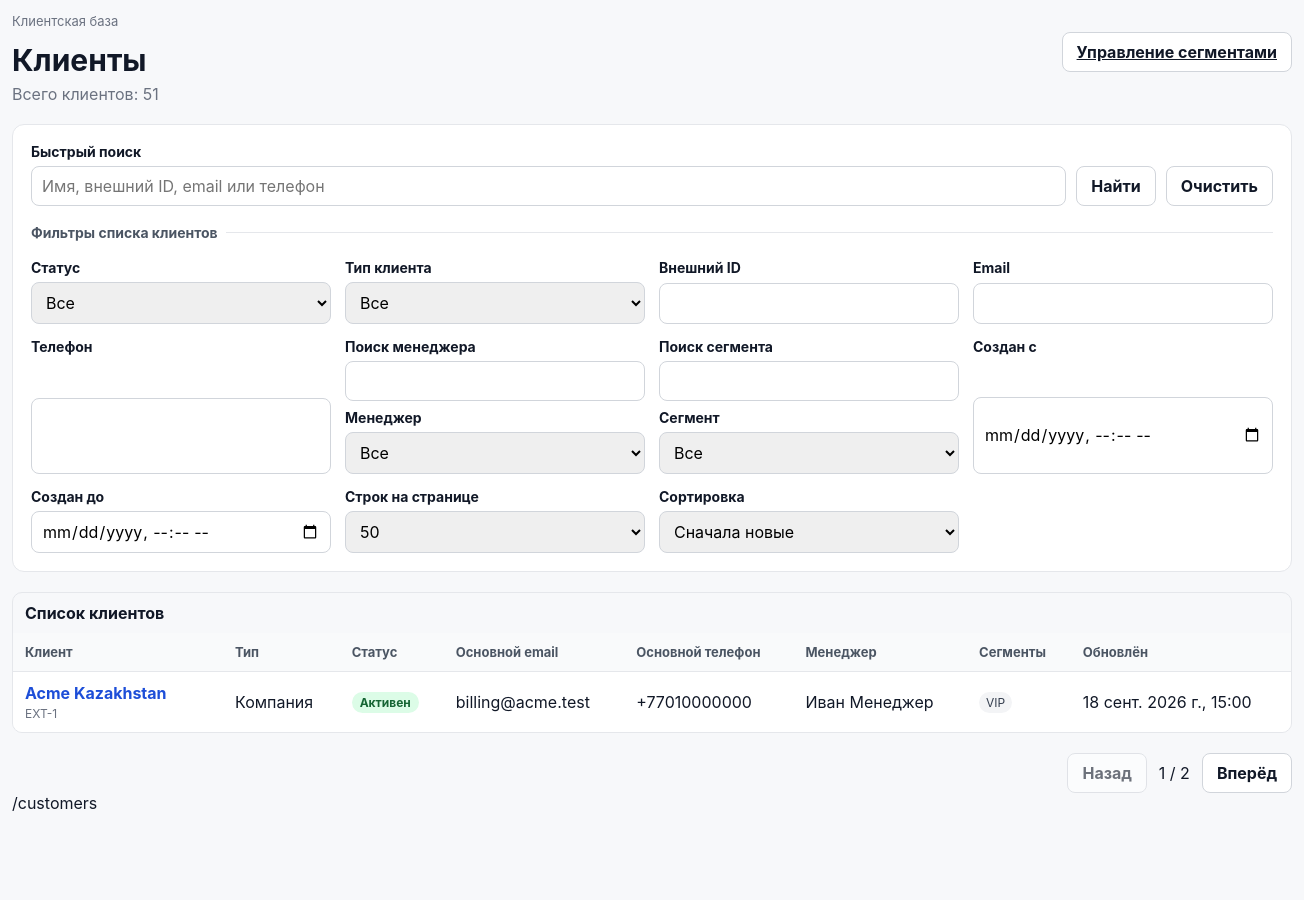
it: CustomersPage › debounces quick search into one committed URL state
Expected: the link "Acme Kazakhstan" is shown, x1=25 y1=683 x2=167 y2=703
Type "Acme" into the search field labelled "Быстрый поиск" at (549, 186), box x1=31 y1=166 x2=1066 y2=206
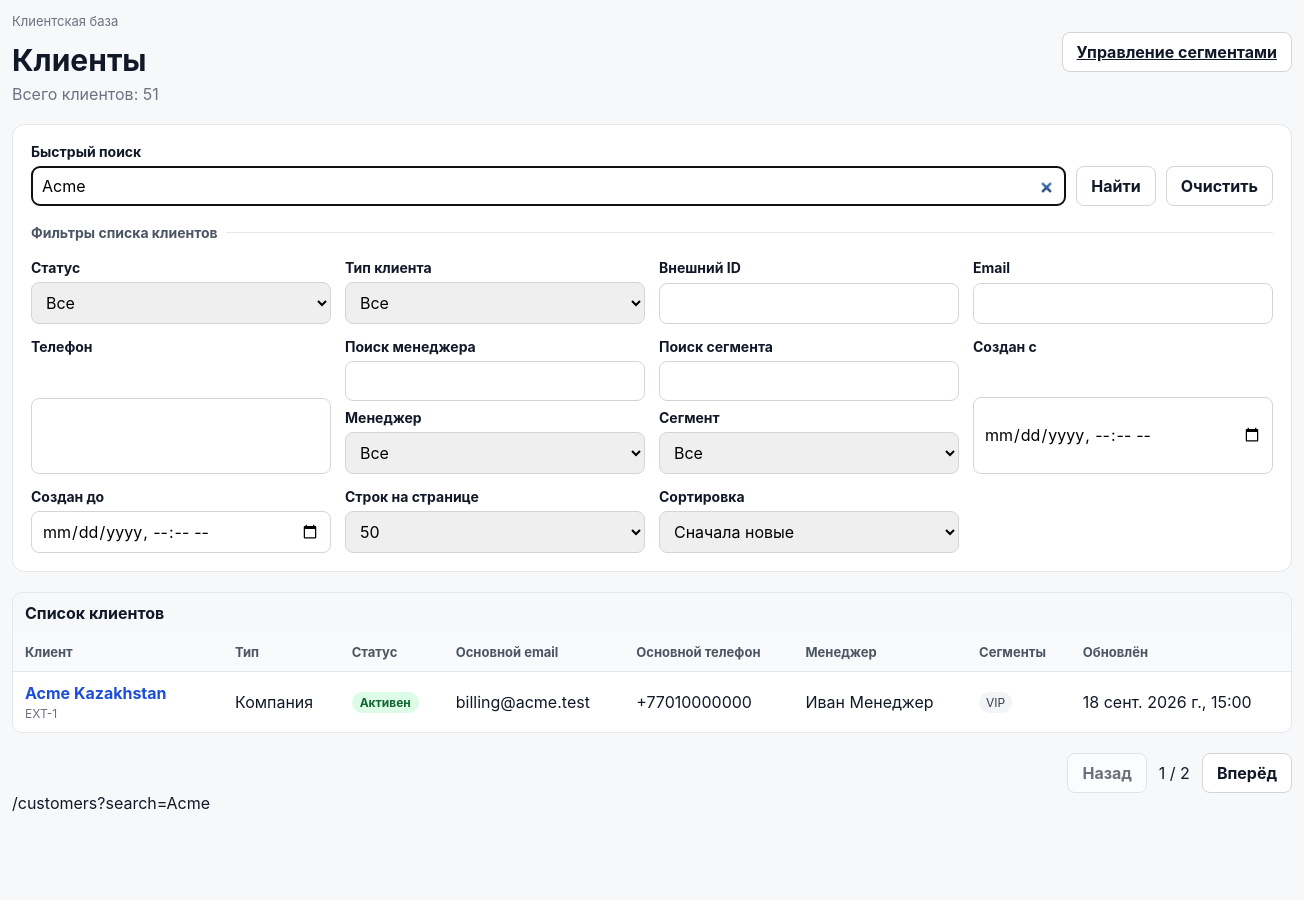
Now the text with test id "location" reads "/customers?search=Acme", box x1=12 y1=793 x2=210 y2=813
